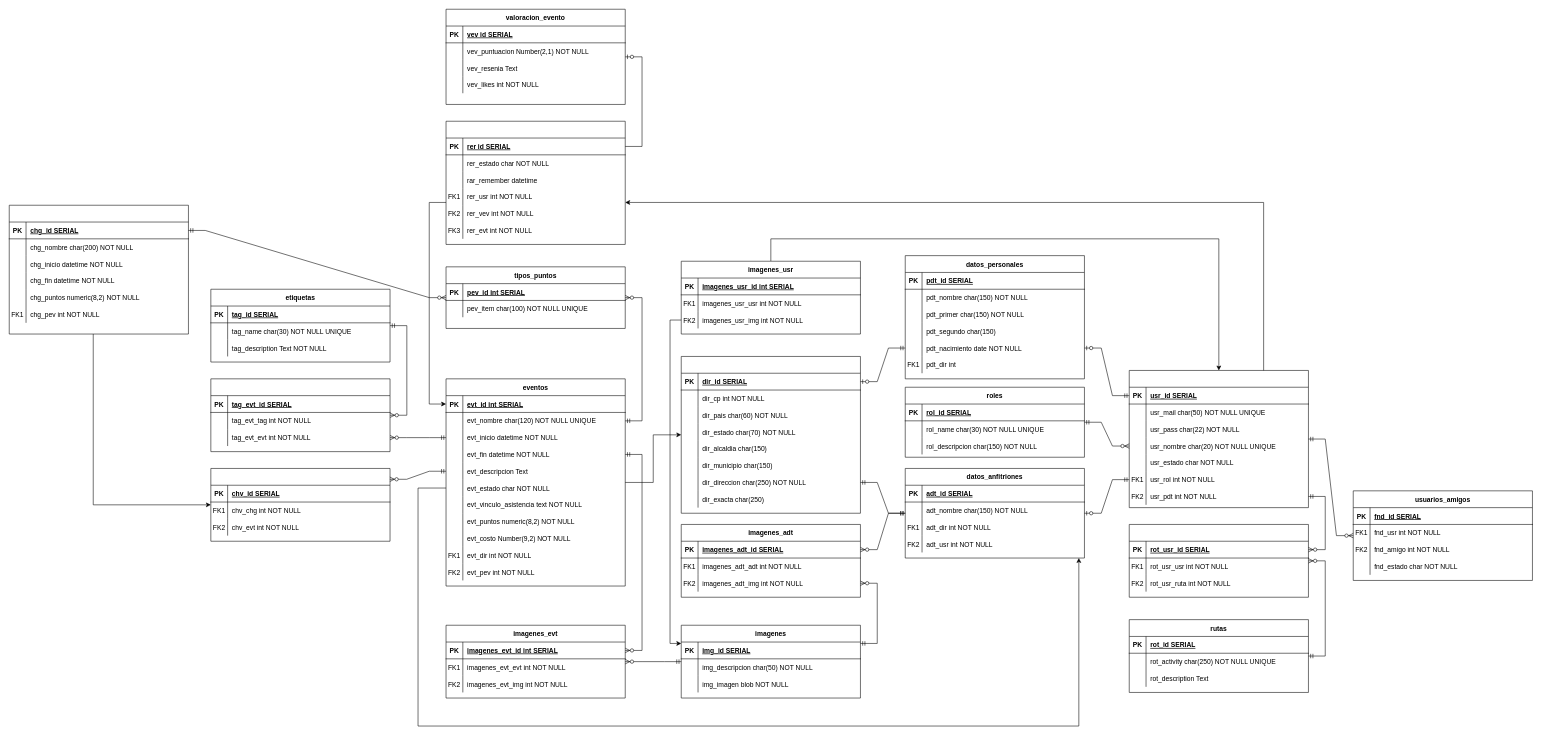
The diagram is 1542 pixels wide and 735 high, and some of its shapes have lost their labels. The shapes that lost their labels are listed below. From the top down, each one's box as (x1, y1, x2, y2) in pixels, then its label:
(445, 121, 625, 244): registros_evento
(9, 205, 188, 334): retos
(210, 378, 390, 452): etiquetas_evento
(681, 356, 860, 513): direcciones
(1129, 370, 1308, 508): usuarios
(210, 468, 390, 541): retos_evento
(1129, 524, 1308, 597): rutas_usuario
